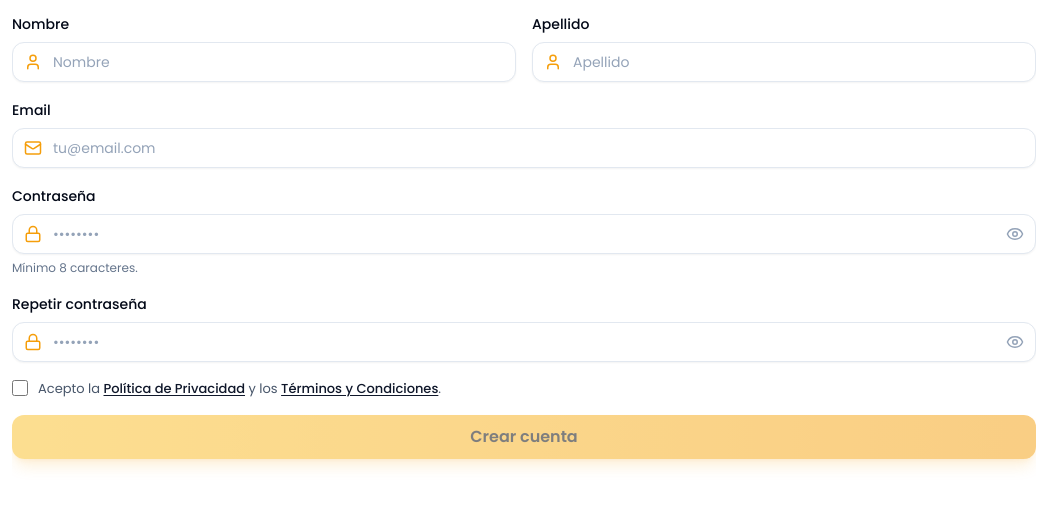
RegisterForm › muestra 'Las contraseñas no coinciden' cuando confirm pierde foco y no coincide
In the password field labelled "Contraseña": x=524, y=234 [12,214,1036,254], type "password123"
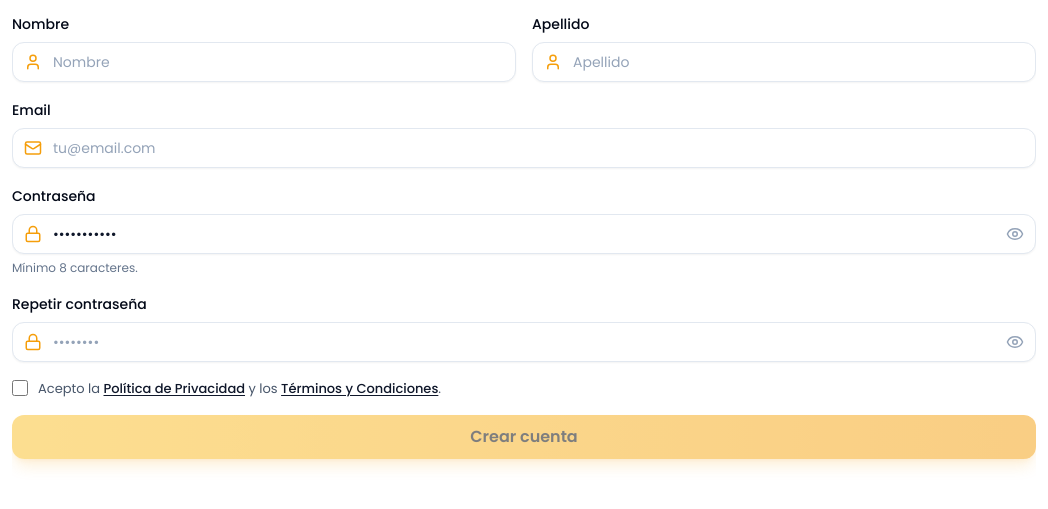
In the password field labelled "Repetir contraseña": x=524, y=342 [12,322,1036,362], type "otra-cosa"
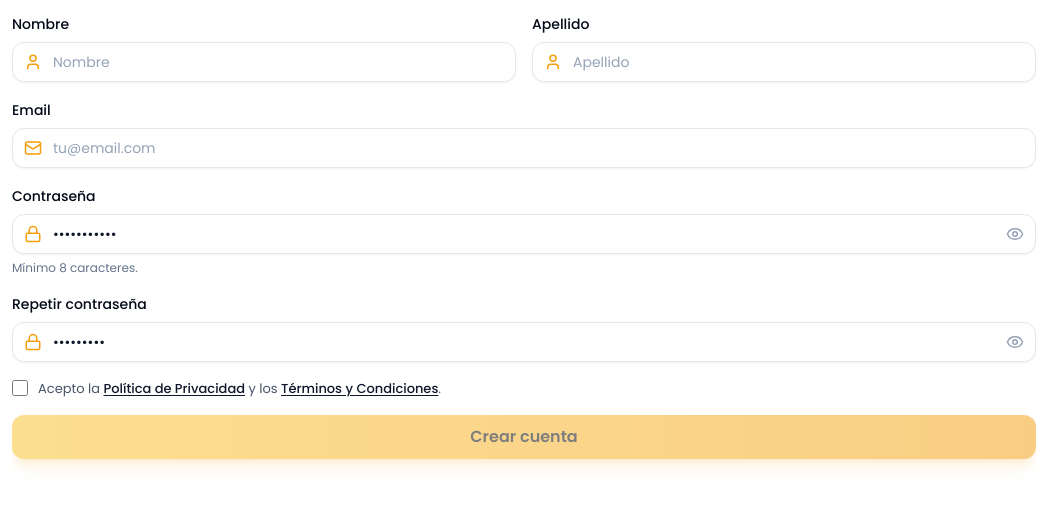
Leave the password field labelled "Repetir contraseña", box [12,322,1036,362]
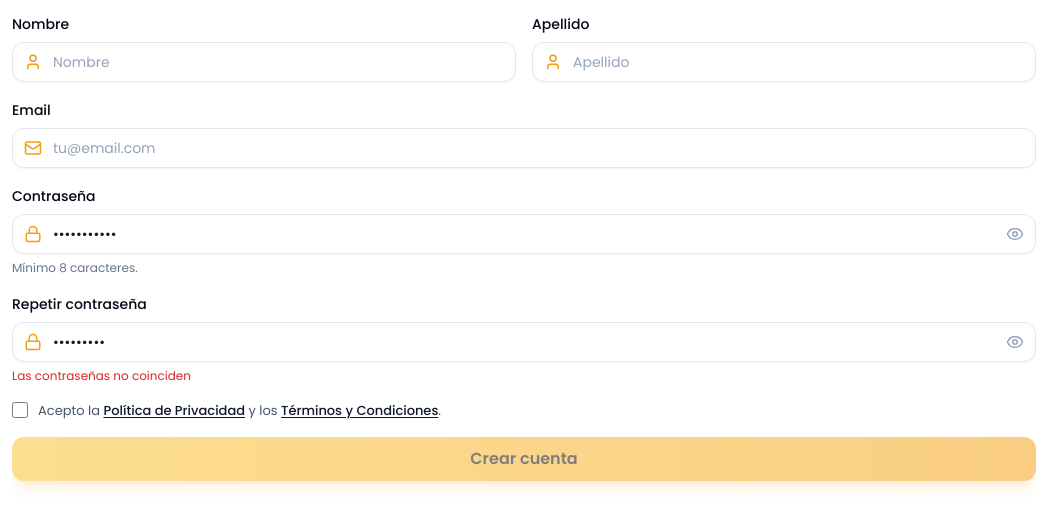
Expected: the text "Las contraseñas no coinciden" is shown, [12,367,191,384]
